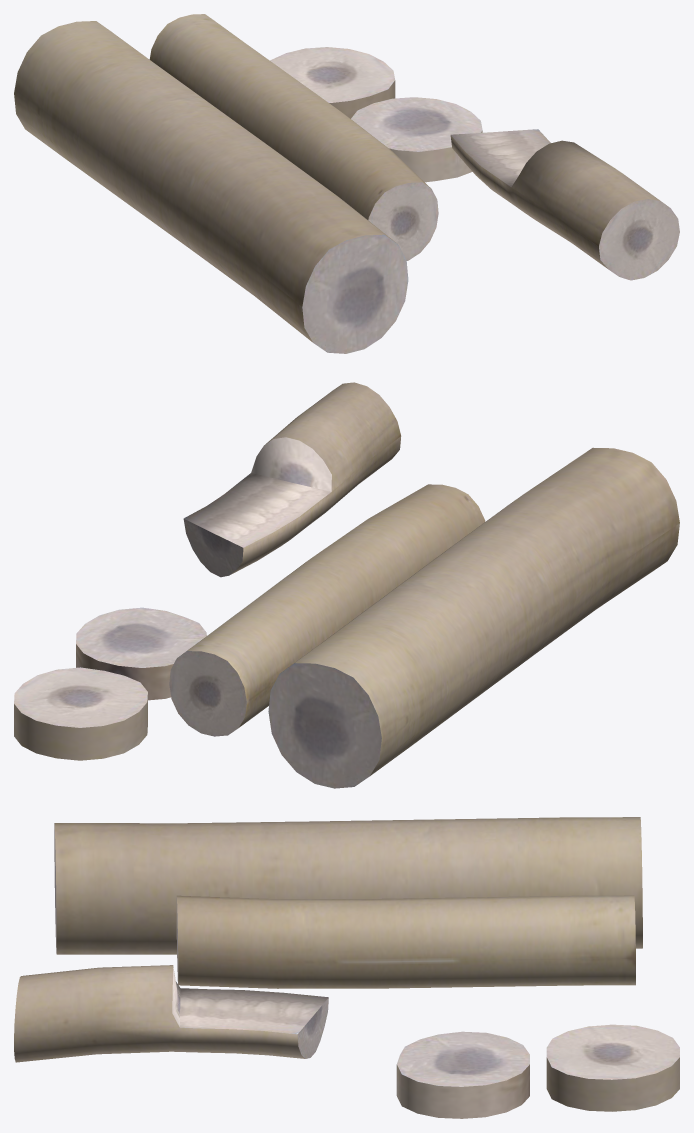
The model's file is tongcao.FBX.
3 renders of one model, top to bottom at view 1: azimuth 30°, elevation 25°; view 2: azimuth 150°, elevation 25°; view 3: azimuth 270°, elevation 25°, orthographic. The views are drawn at different scales.
Parts seen in each view (by area): view 1: Cylinder004, Cylinder003, Cylinder005, Cylinder002, Cylinder001; view 2: Cylinder004, Cylinder003, Cylinder005, Cylinder001, Cylinder002; view 3: Cylinder004, Cylinder003, Cylinder005, Cylinder001, Cylinder002.
Part boxes in pixels (x1=…): Cylinder004: x1=14, y1=21, x2=408, y2=353; Cylinder003: x1=149, y1=14, x2=438, y2=260; Cylinder005: x1=450, y1=129, x2=679, y2=280; Cylinder002: x1=351, y1=97, x2=482, y2=182; Cylinder001: x1=270, y1=47, x2=395, y2=118; Cylinder004: x1=268, y1=447, x2=679, y2=788; Cylinder003: x1=169, y1=484, x2=485, y2=736; Cylinder005: x1=183, y1=382, x2=401, y2=577; Cylinder001: x1=14, y1=667, x2=147, y2=760; Cylinder002: x1=76, y1=607, x2=206, y2=700; Cylinder004: x1=54, y1=817, x2=642, y2=954; Cylinder003: x1=176, y1=895, x2=635, y2=988; Cylinder005: x1=14, y1=965, x2=328, y2=1062; Cylinder001: x1=546, y1=1024, x2=679, y2=1111; Cylinder002: x1=396, y1=1031, x2=529, y2=1118.
Bounding box in the file's own units: 28.33 × 9.67 × 43.11.
1 material, 1 textured.
